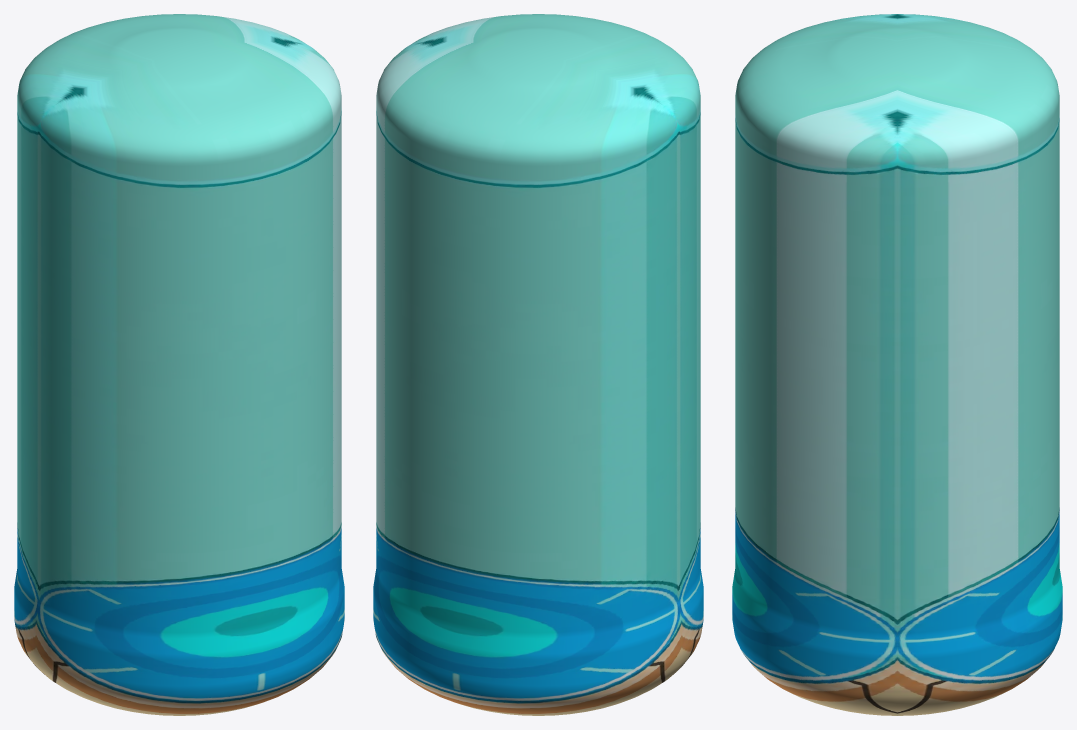
Rendered from cylindrical_chamber.glb.
3 renders of one model, left to right at view 1: azimuth 30°, elevation 25°; view 2: azimuth 150°, elevation 25°; view 3: azimuth 270°, elevation 25°, orthographic.
Parts seen in each view (by area): view 1: cylindrical_chamber; view 2: cylindrical_chamber; view 3: cylindrical_chamber.
Boxes of the visible parts, x1,y1,x2,y2 form: cylindrical_chamber: [14, 14, 344, 715]; cylindrical_chamber: [373, 14, 703, 715]; cylindrical_chamber: [732, 14, 1062, 715].
Size of the model in its own units: 1 by 2.11 by 1.
Materials: 1 (1 with a texture image).
